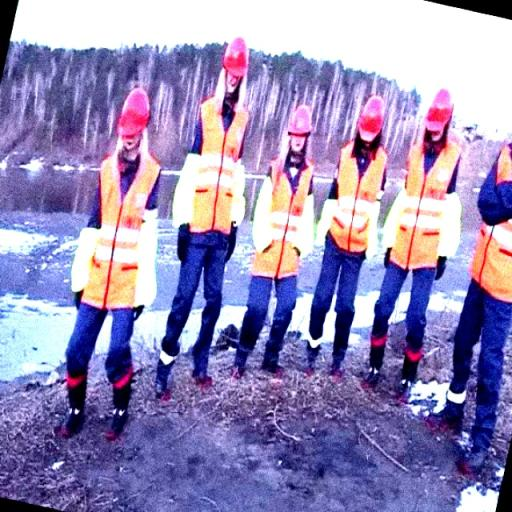Person: (62, 64, 158, 444), (66, 145, 163, 446), (172, 22, 247, 410), (163, 96, 246, 437), (380, 142, 452, 420), (257, 96, 307, 414), (254, 92, 314, 343)
boots: (93, 355, 144, 442), (147, 334, 191, 418), (52, 366, 96, 436), (456, 412, 496, 482), (422, 377, 469, 434), (394, 327, 427, 407), (189, 326, 221, 395), (356, 328, 388, 394), (227, 330, 259, 382), (263, 328, 293, 380), (326, 332, 356, 380), (296, 334, 322, 380)
helmet: (114, 78, 151, 155), (217, 28, 254, 102), (352, 86, 392, 146), (419, 85, 452, 145), (284, 101, 318, 137)
vest: (85, 144, 161, 316), (189, 90, 250, 246), (387, 140, 453, 276), (254, 154, 312, 286), (331, 155, 383, 259)
